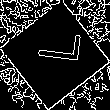L_W: (28, 37, 82, 73)
